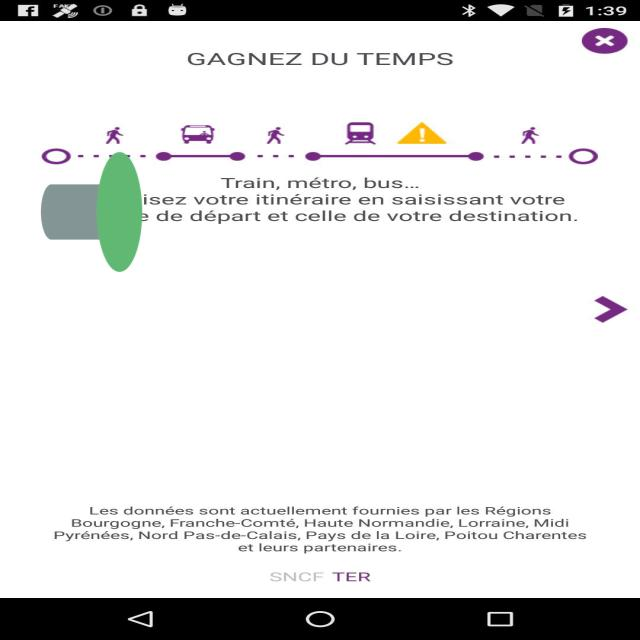social proof: (41, 78, 142, 346)
